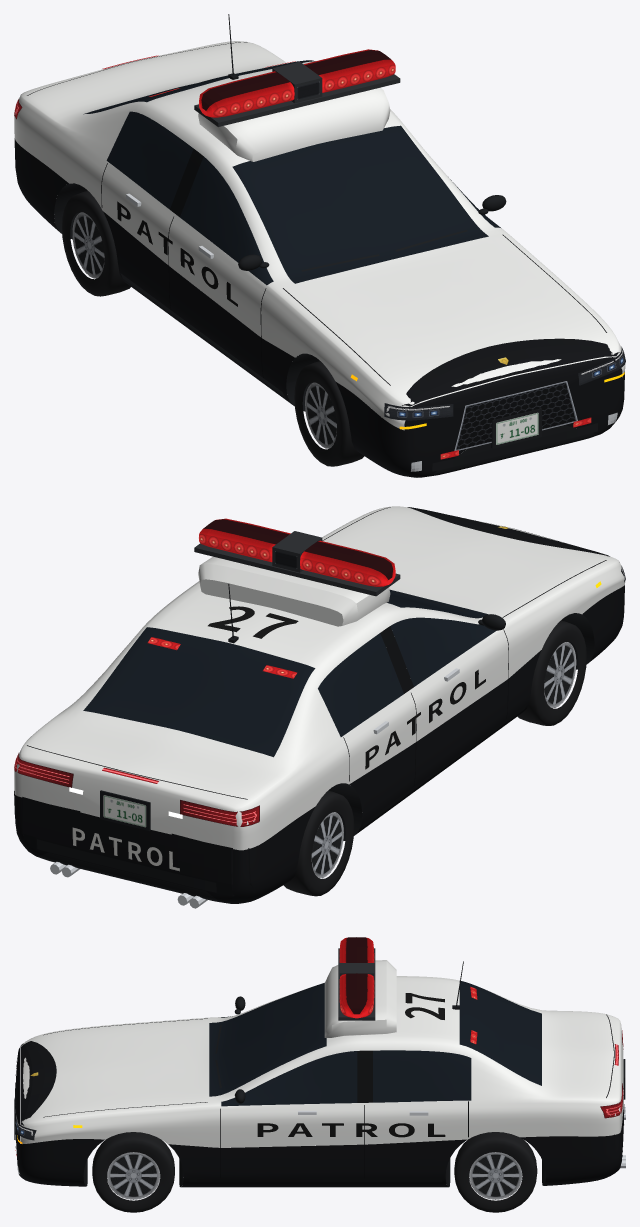
Rendered from police_patrol.glb.
3 views of the same model, one above another, from view 1: azimuth 30°, elevation 25°; view 2: azimuth 150°, elevation 25°; view 3: azimuth 270°, elevation 25° (orthographic). The views are drawn at different scales.
Parts seen in each view (by area): view 1: Body, LightBar, WheelFR, WheelRR; view 2: Body, LightBar, WheelRR, WheelFR; view 3: Body, WheelRL, WheelFL, LightBar.
Boxes of the visible parts, x1=… form: Body: x1=14, y1=14, x2=625, y2=477; LightBar: x1=194, y1=49, x2=400, y2=126; WheelFR: x1=294, y1=361, x2=364, y2=466; WheelRR: x1=62, y1=191, x2=130, y2=296; Body: x1=14, y1=506, x2=625, y2=908; LightBar: x1=194, y1=518, x2=400, y2=596; WheelRR: x1=283, y1=790, x2=354, y2=896; WheelFR: x1=517, y1=620, x2=586, y2=725; Body: x1=14, y1=960, x2=625, y2=1187; WheelRL: x1=454, y1=1132, x2=537, y2=1212; WheelFL: x1=92, y1=1132, x2=174, y2=1212; LightBar: x1=338, y1=937, x2=375, y2=1020.
Size of the model in its own units: 1.94 by 1.84 by 4.93.
Materials: 24 (12 with a texture image).
